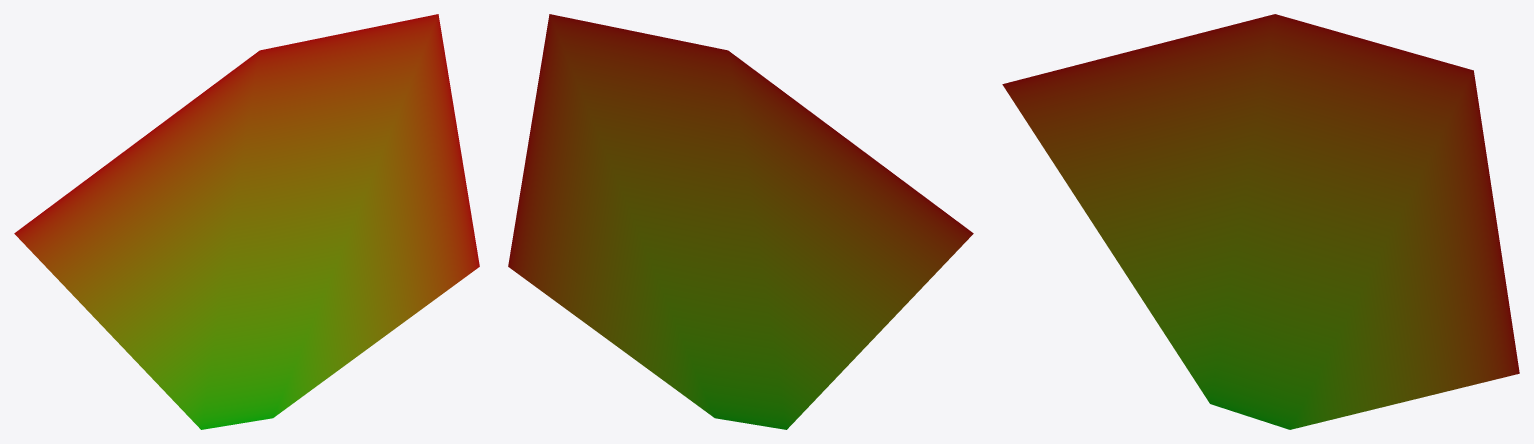
File: Alpine Bearberry_LOD5_Var4_xb0gdazqx.fbx
The picture shows the model from 3 angles, left to right: view 1: azimuth 30°, elevation 25°; view 2: azimuth 150°, elevation 25°; view 3: azimuth 330°, elevation 25°; orthographic projection. The views are drawn at different scales.
Visible parts, largest first — view 1: _412e_Var4_LOD5; view 2: _412e_Var4_LOD5; view 3: _412e_Var4_LOD5.
Part boxes in pixels (box(x1,y1,x2,y2)): _412e_Var4_LOD5: box(14, 14, 479, 429); _412e_Var4_LOD5: box(508, 14, 973, 429); _412e_Var4_LOD5: box(1002, 14, 1519, 429).
Bounding box in the file's own units: 13.01 × 9.9 × 4.33e-07.
